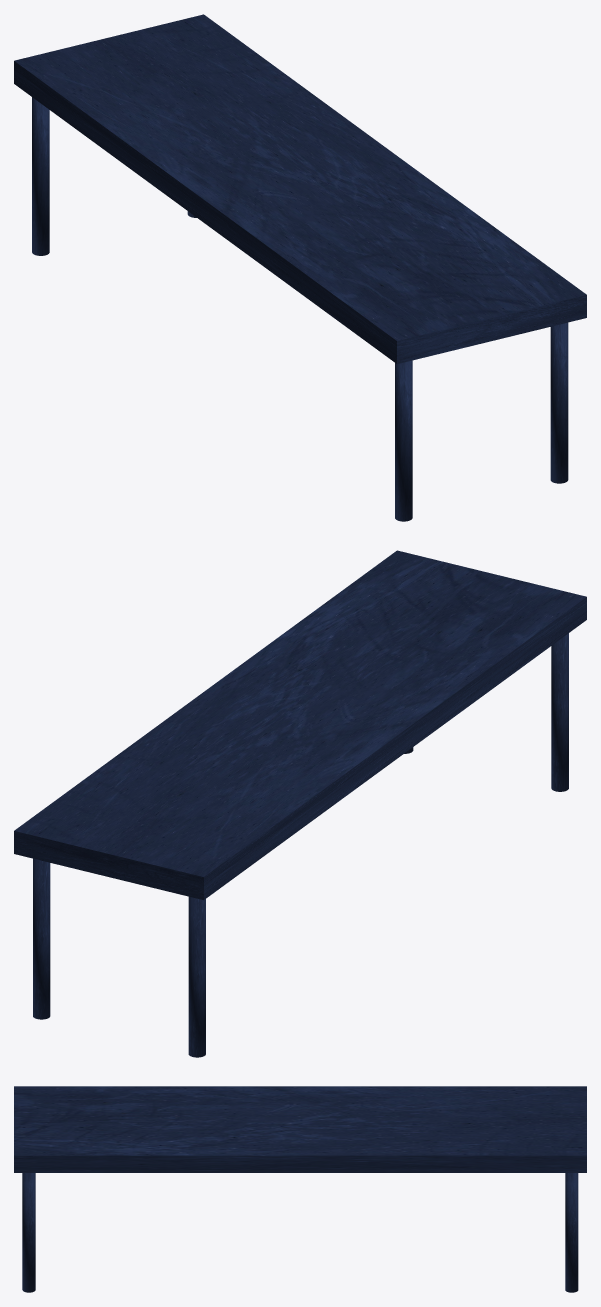
File: tableWeapons.fbx
The picture shows the model from 3 angles, top to bottom: view 1: azimuth 30°, elevation 25°; view 2: azimuth 150°, elevation 25°; view 3: azimuth 270°, elevation 25°; orthographic projection. The views are drawn at different scales.
Parts seen in each view (by area): view 1: Cylinder.004; view 2: Cylinder.004; view 3: Cylinder.004.
Boxes of the visible parts, x1=… form: Cylinder.004: x1=14, y1=14, x2=586, y2=521; Cylinder.004: x1=14, y1=550, x2=586, y2=1057; Cylinder.004: x1=14, y1=1086, x2=586, y2=1292.
Bounding box in the file's own units: 149 × 141 × 522.
Materials: 1 (1 with a texture image).
